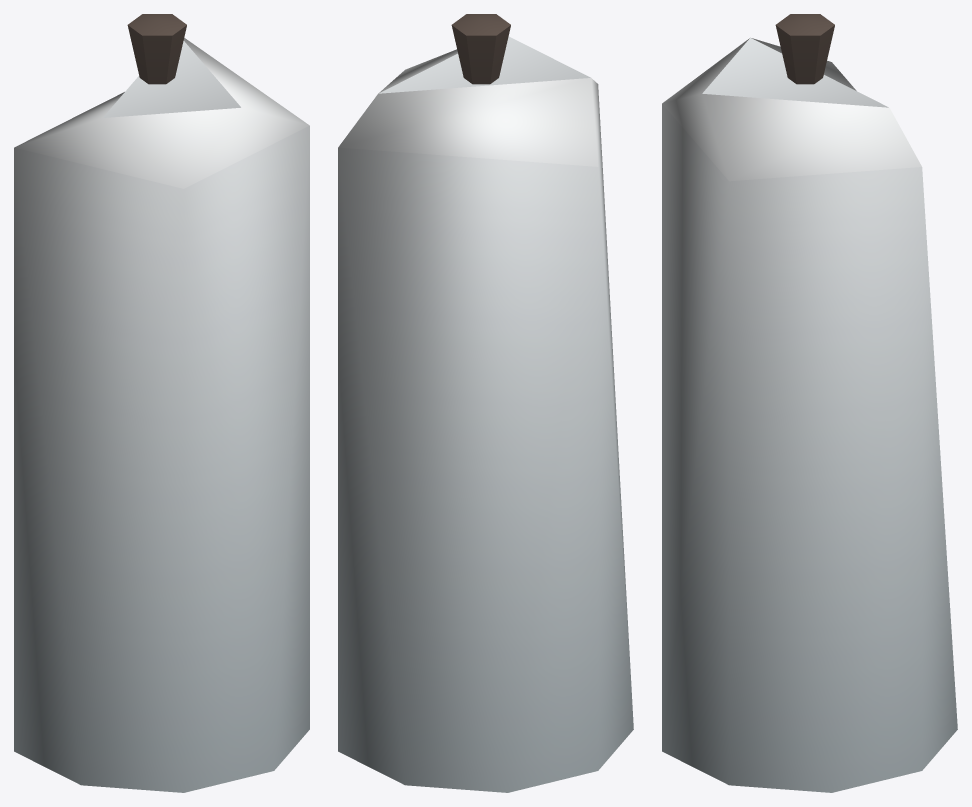
Rendered from cc0-candle-lod1.glb.
3 renders of one model, left to right at view 1: azimuth 30°, elevation 25°; view 2: azimuth 150°, elevation 25°; view 3: azimuth 270°, elevation 25°, orthographic.
Parts seen in each view (by area): view 1: part_0; view 2: part_0; view 3: part_0.
Boxes of the visible parts, x1,y1,x2,y2 form: part_0: [14, 14, 309, 792]; part_0: [338, 14, 633, 792]; part_0: [662, 14, 957, 792].
Bounding box in the file's own units: 0.3009 × 0.7857 × 0.2964.
1 material, 1 textured.
